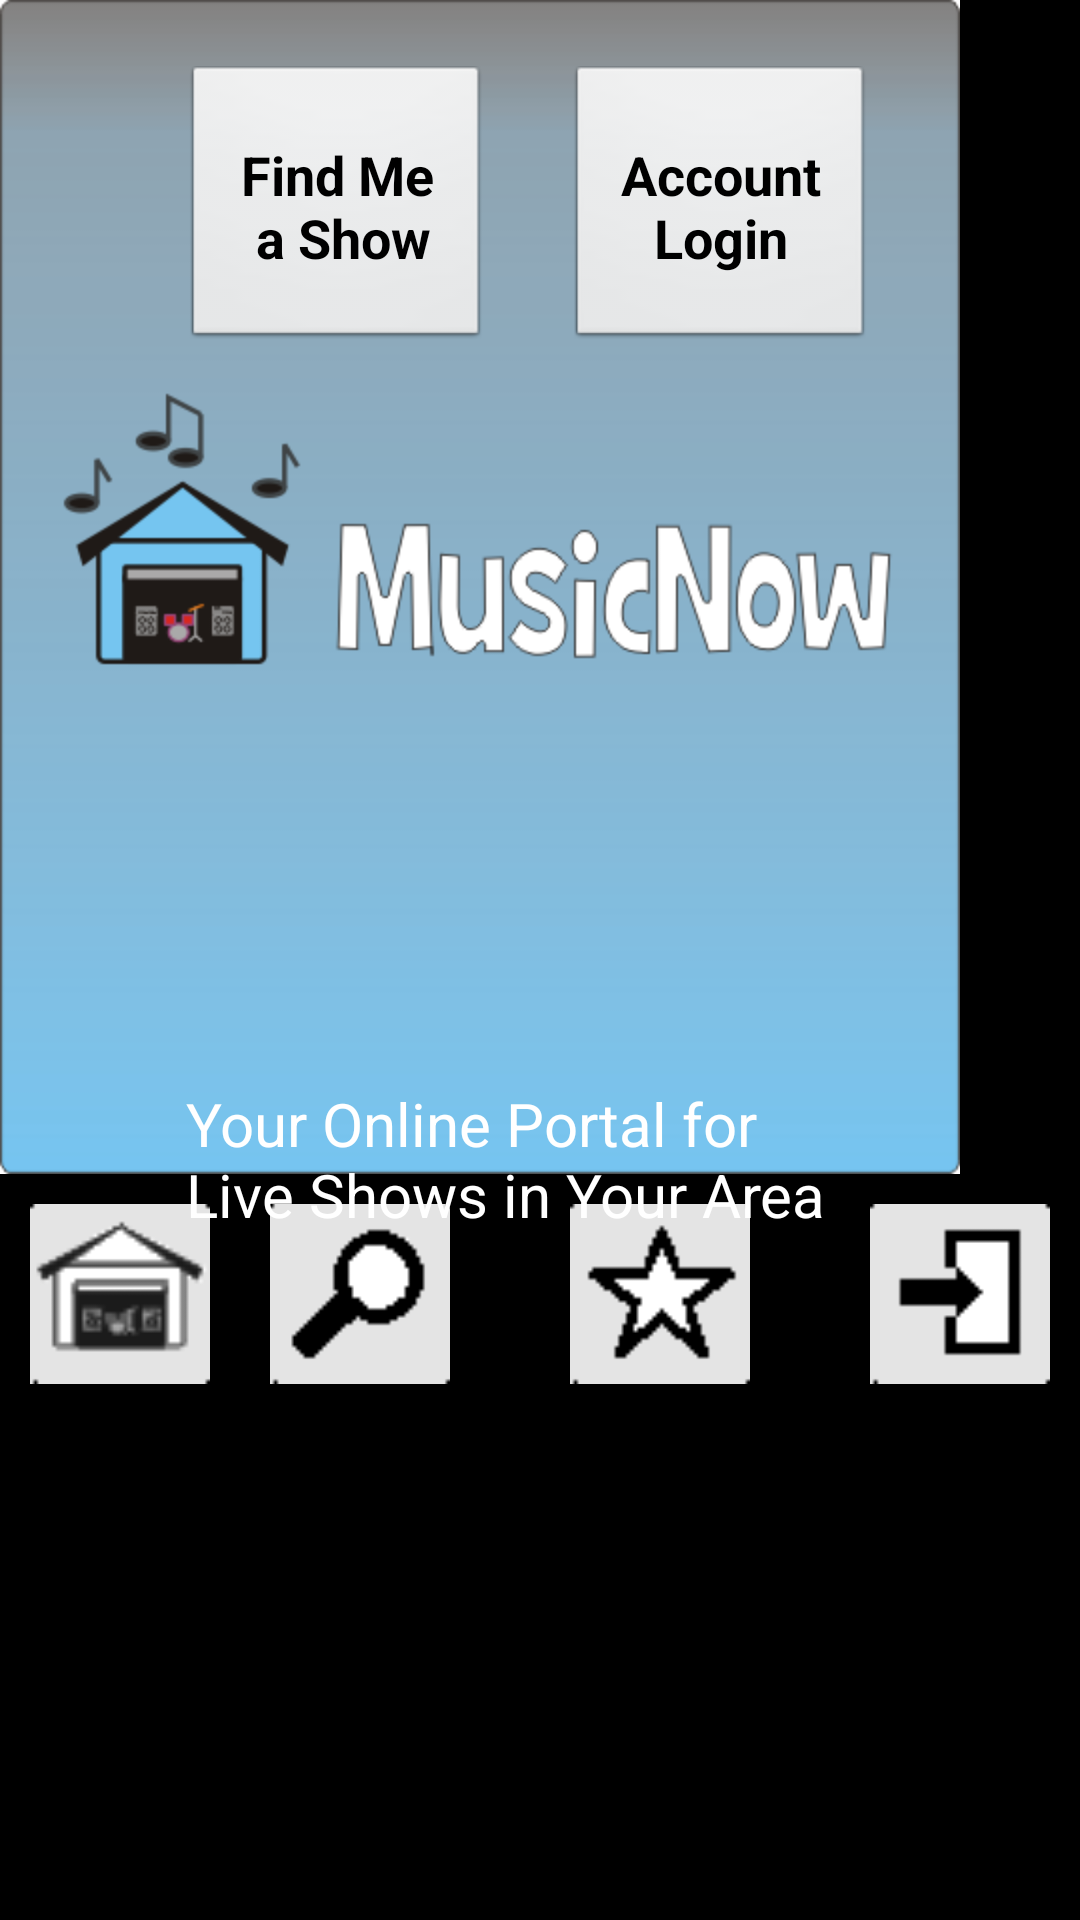

Icons on this 1080x1920 Android screen, each with the point to tap as [x,y]:
Favorites: [660,1294]
garage: [120,1294]
Login: [960,1294]
Search Button: [360,1294]
